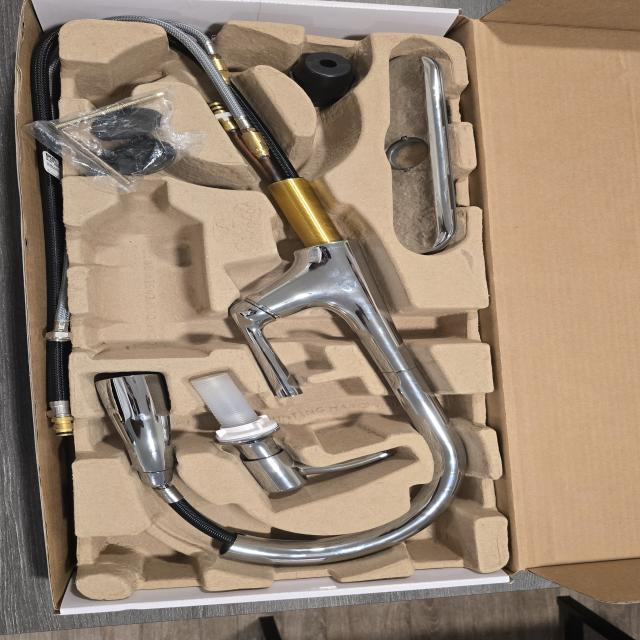1: (97, 26, 472, 567)
2: (189, 372, 393, 494)
3m: (83, 181, 206, 357)
4: (382, 55, 458, 254)
5: (292, 51, 353, 106)
6m: (70, 46, 168, 105)
7: (21, 82, 213, 194)
